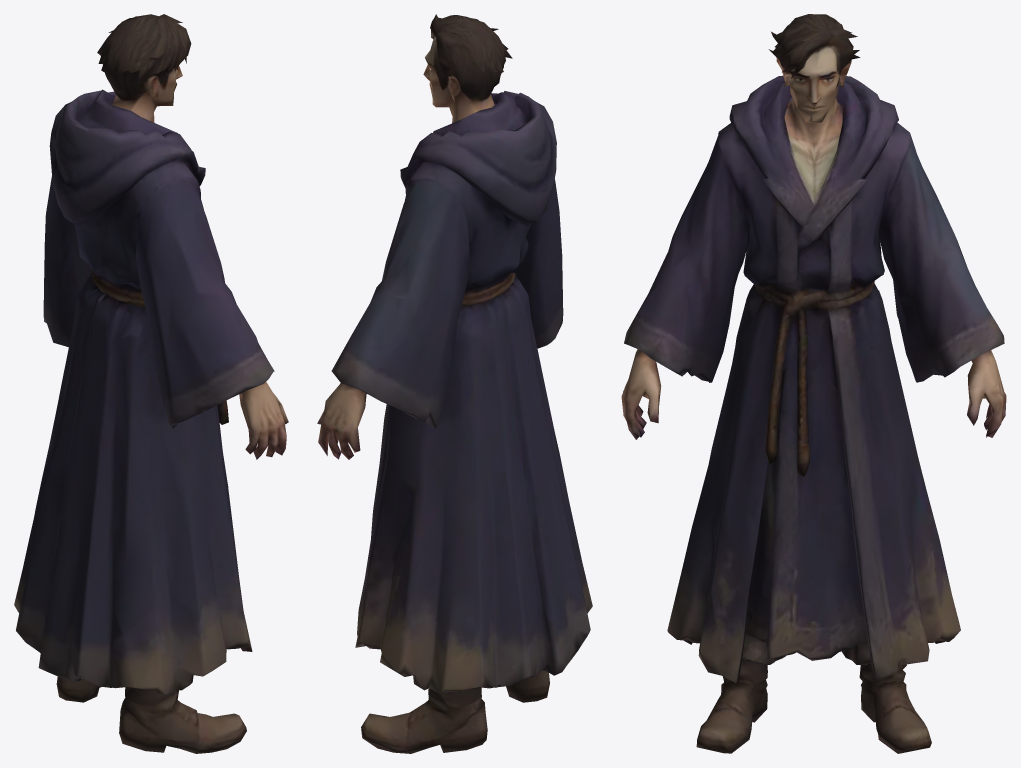
Rendered from model-npc-quillon-01.glb.
The picture shows the model from 3 angles, left to right: view 1: azimuth 30°, elevation 25°; view 2: azimuth 150°, elevation 25°; view 3: azimuth 270°, elevation 25°; orthographic projection. The views are drawn at different scales.
Parts seen in each view (by area): view 1: tripo_node_6ce5d1d9-8a4a-42d6-9ef2-65bfb33b209c; view 2: tripo_node_6ce5d1d9-8a4a-42d6-9ef2-65bfb33b209c; view 3: tripo_node_6ce5d1d9-8a4a-42d6-9ef2-65bfb33b209c.
Boxes of the visible parts, box(x1,y1,x2,y2) form: tripo_node_6ce5d1d9-8a4a-42d6-9ef2-65bfb33b209c: box(14, 14, 288, 753); tripo_node_6ce5d1d9-8a4a-42d6-9ef2-65bfb33b209c: box(317, 14, 592, 753); tripo_node_6ce5d1d9-8a4a-42d6-9ef2-65bfb33b209c: box(621, 14, 1006, 753).
Bounding box in the file's own units: 0.4913 × 1.85 × 0.8993.
Materials: 1 (1 with a texture image).
